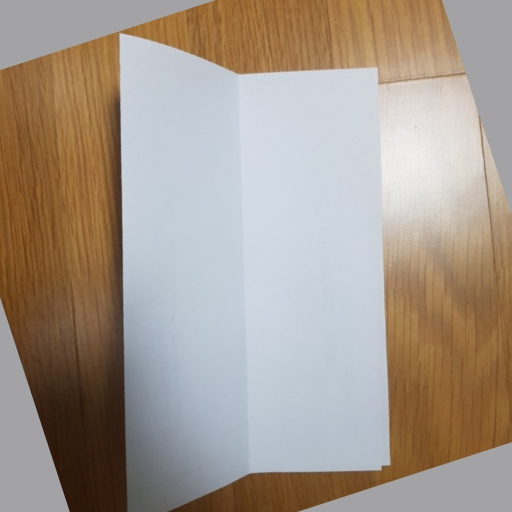Paper_3: (106, 27, 394, 512)
